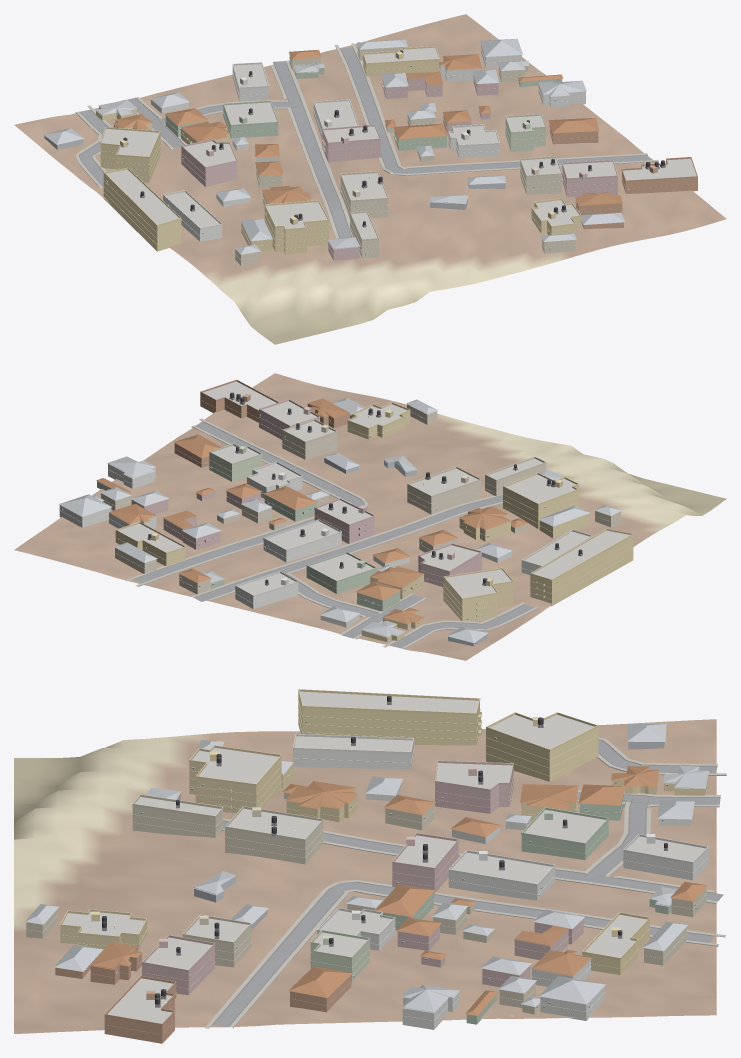
3 views of the same model, one above another, from view 1: azimuth 30°, elevation 25°; view 2: azimuth 150°, elevation 25°; view 3: azimuth 270°, elevation 25° (orthographic). The views are drawn at different scales.
Visible parts, largest first — view 1: Terrain-col, Buildings-col, Details, Roads-col, Sidewalks-col; view 2: Buildings-col, Terrain-col, Details, Roads-col, Sidewalks-col; view 3: Terrain-col, Buildings-col, Details, Roads-col, Sidewalks-col.
Boxes of the visible parts, x1,y1,x2,y2 form: Terrain-col: [14, 14, 726, 344]; Buildings-col: [43, 38, 697, 266]; Details: [45, 46, 697, 260]; Roads-col: [78, 47, 649, 238]; Sidewalks-col: [75, 43, 658, 238]; Buildings-col: [59, 381, 633, 646]; Terrain-col: [14, 373, 726, 660]; Details: [60, 379, 633, 643]; Roads-col: [133, 422, 534, 648]; Sidewalks-col: [125, 418, 538, 649]; Terrain-col: [14, 719, 716, 1033]; Buildings-col: [25, 691, 708, 1043]; Details: [26, 689, 708, 1034]; Roads-col: [212, 740, 723, 1027]; Sidewalks-col: [204, 737, 726, 1028].
Bounding box in the file's own units: 274 × 28.27 × 260.
